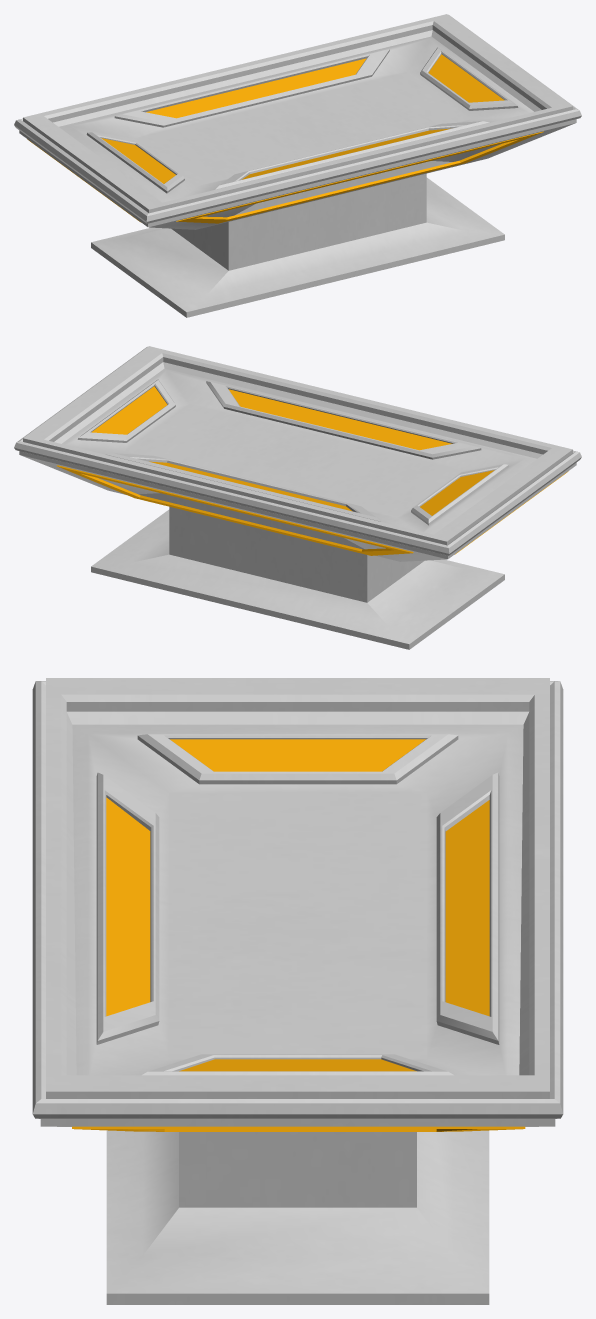
File: FUR0310014.fbx
3 views of the same model, one above another, from view 1: azimuth 30°, elevation 25°; view 2: azimuth 150°, elevation 25°; view 3: azimuth 270°, elevation 25° (orthographic). The views are drawn at different scales.
Visible parts, largest first — view 1: smFUR0310014; view 2: smFUR0310014; view 3: smFUR0310014.
Boxes of the visible parts, bbox=[...] form: smFUR0310014: bbox=[14, 14, 581, 317]; smFUR0310014: bbox=[14, 346, 581, 649]; smFUR0310014: bbox=[32, 678, 563, 1304].
Size of the model in its own units: 366 by 106 by 193.
Materials: 1 (1 with a texture image).
